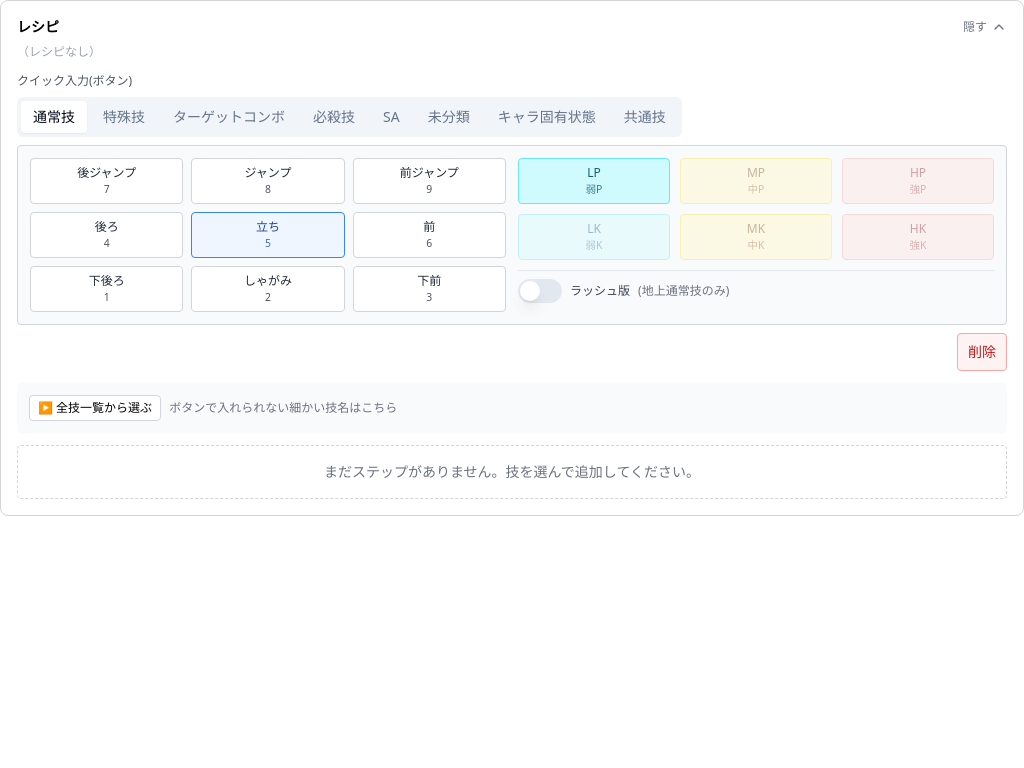
it: ★全技一覧の「ボタンで入力できる技を省く」(M30-01 / SM-100) › ★既定は OFF である(全件が並ぶ)
Click the button with test id "recipe-pulldown-toggle": point(95, 408) [29,395,161,421]
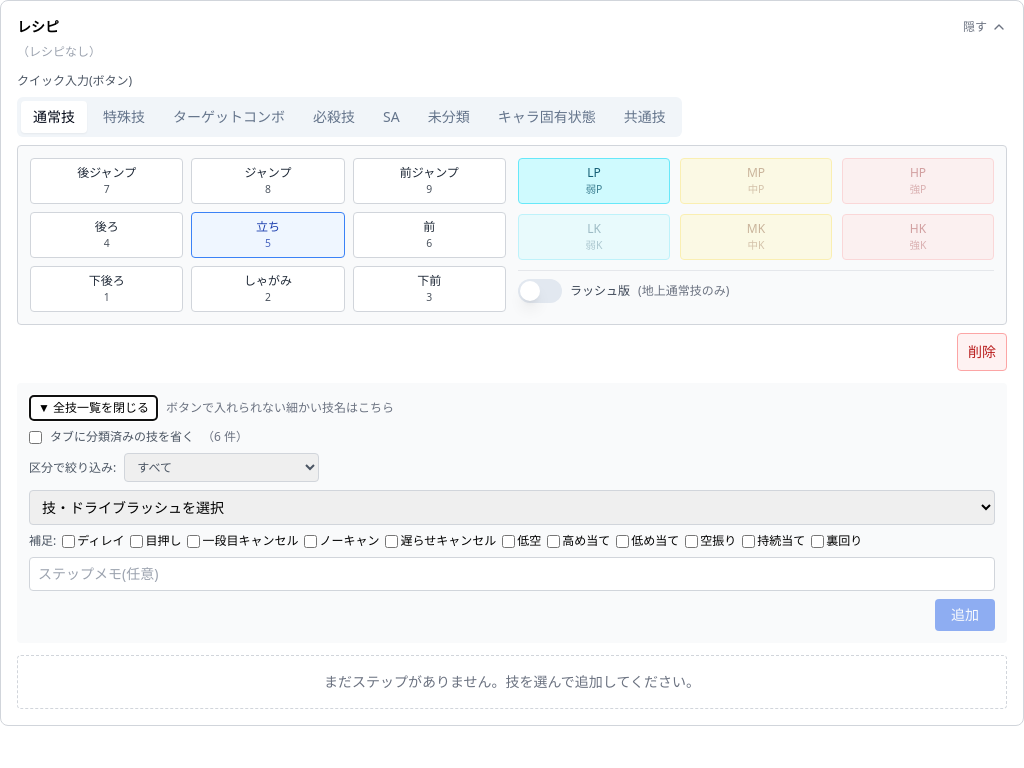
Expected: the checkbox with test id "recipe-omit-surfaced-toggle" is not checked, [29,430,42,444]
